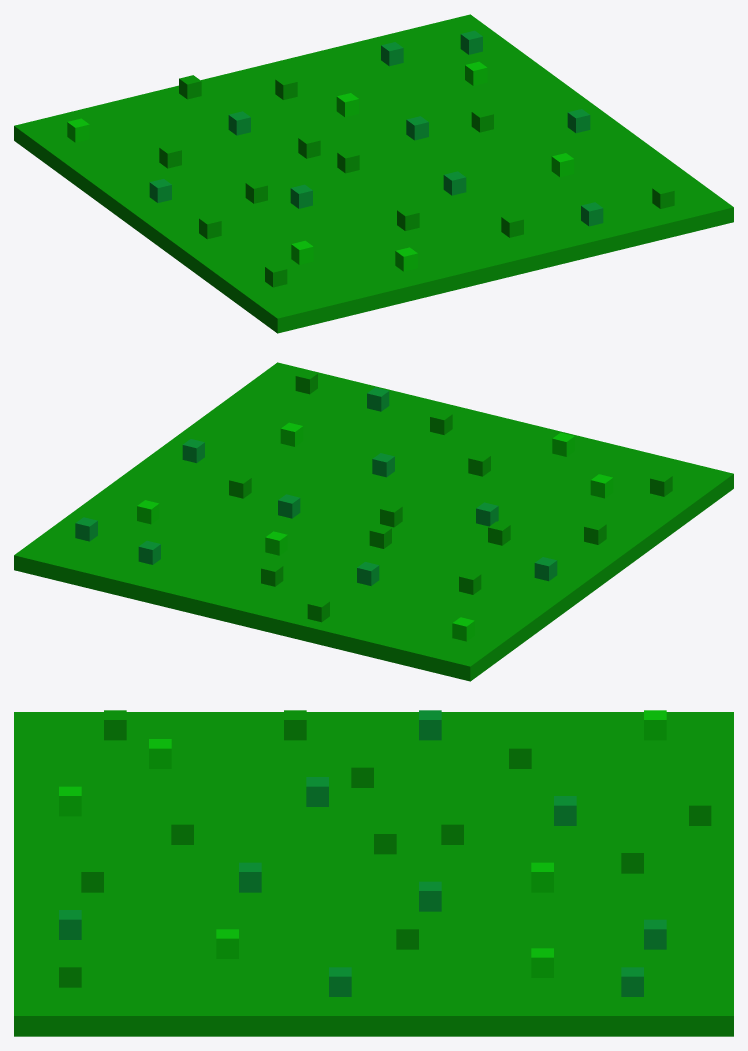
Rendered from grama1.obj.
3 renders of one model, top to bottom at view 1: azimuth 30°, elevation 25°; view 2: azimuth 150°, elevation 25°; view 3: azimuth 270°, elevation 25°, orthographic. The views are drawn at different scales.
Size of the model in its own units: 3.2 by 0.2 by 3.2.
Materials: 1 (1 with a texture image).
